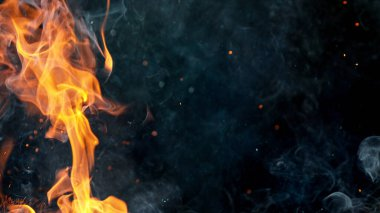fire: (4, 3, 124, 211)
